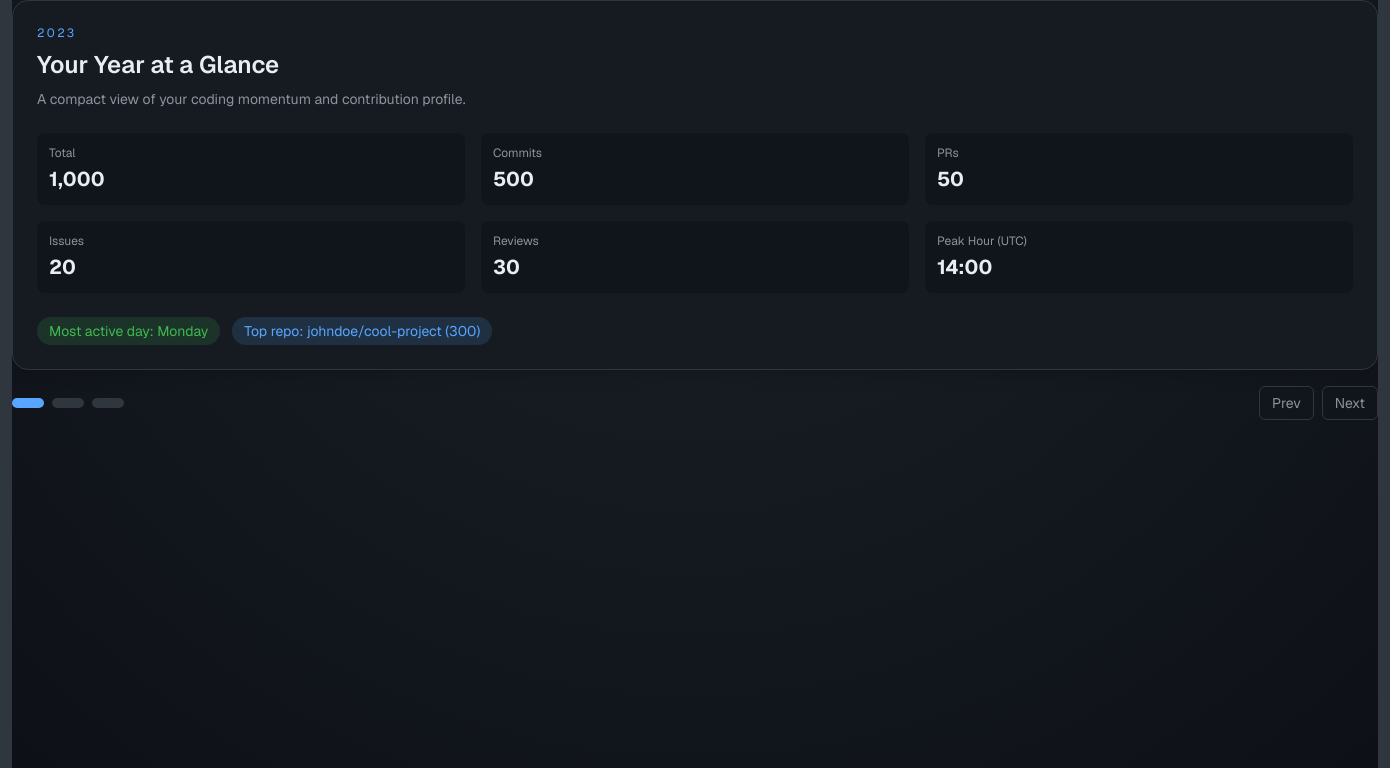
YearInReviewCarousel › navigates to the previous slide when 'Prev' is clicked
What coordinates should you click on to do the following:
click the button "Prev"
I would click on:
 (1286, 403)
Its box is [1259,386,1314,420].
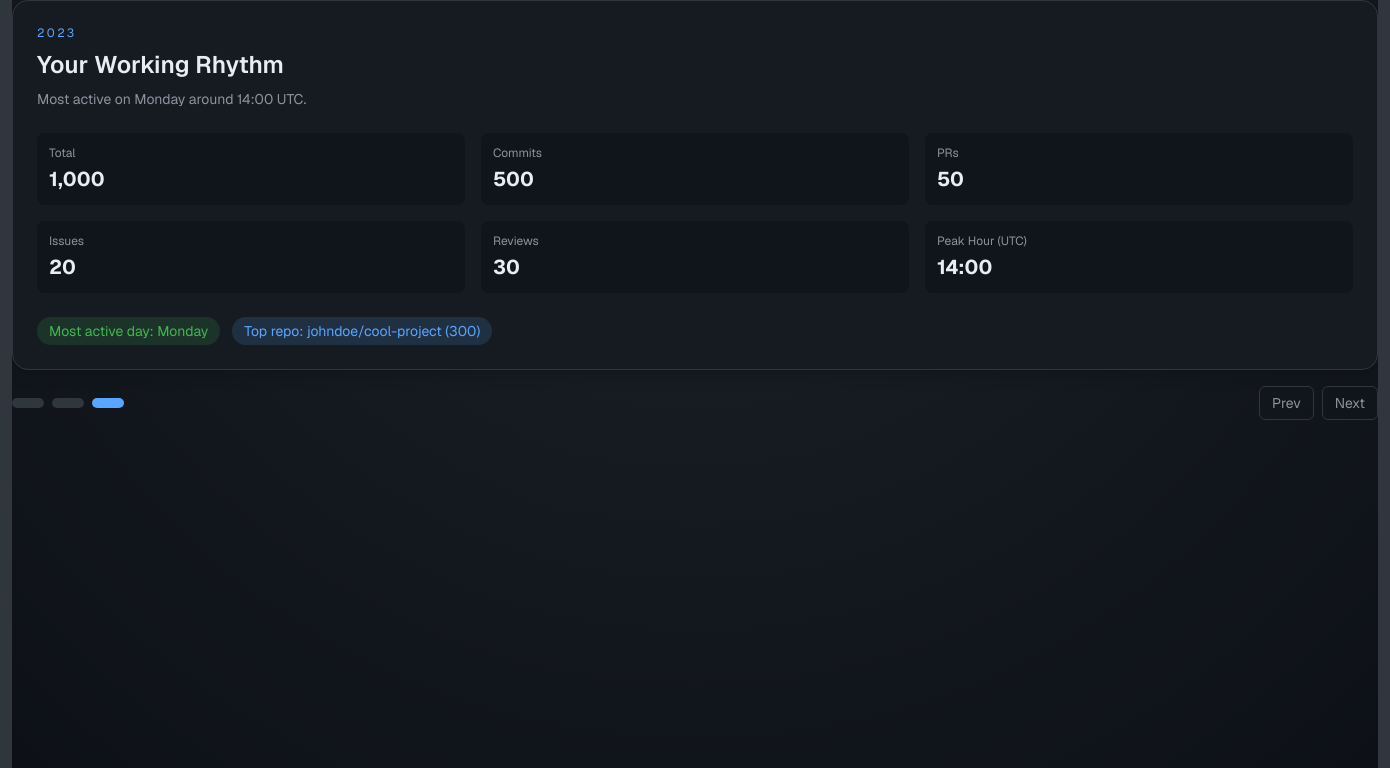
Result: the heading "Your Working Rhythm" is shown at [37,49,284,80]
Result: the text "Most active on Monday around 14:00 UTC." is shown at [37,90,306,108]
